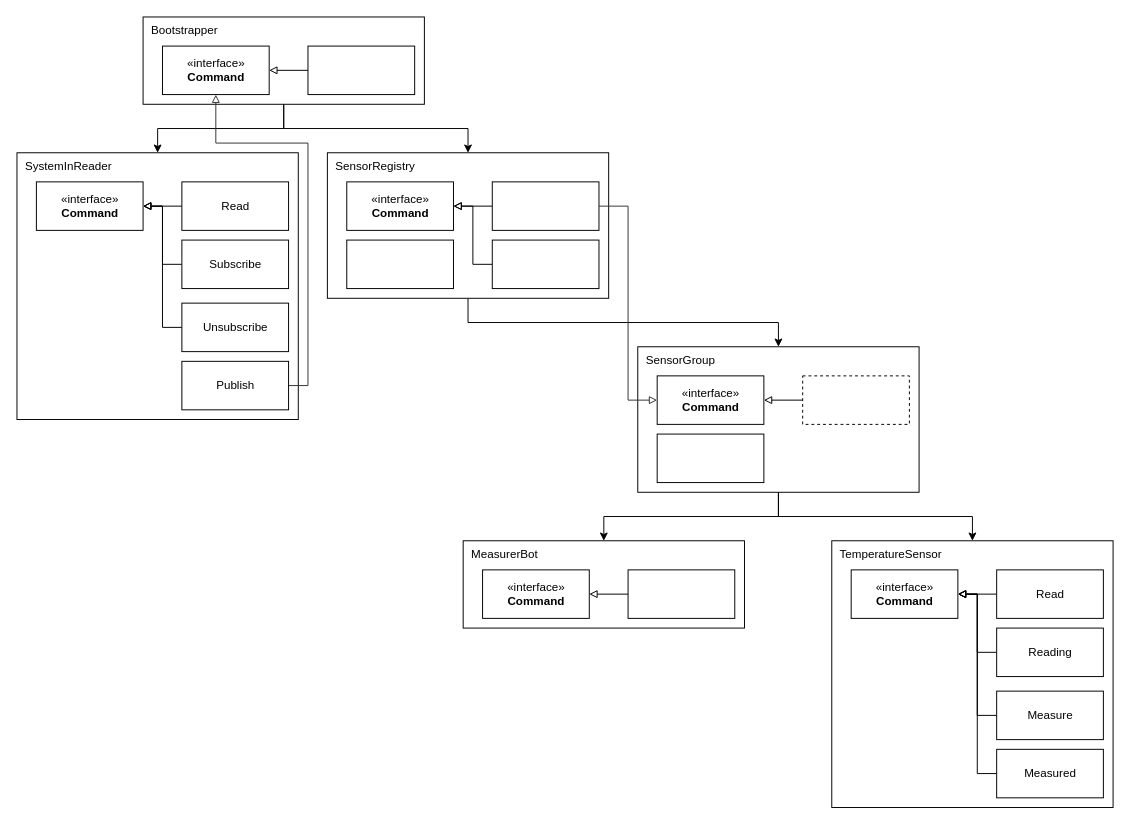
This 1130x825 diagram has some shape labels left out. Each missing label, with the centre of its shape:
"GroupsById" belongs at (399,264).
"Initialize" belongs at (361,70).
"Register" belongs at (545,205).
"Registered" belongs at (545,264).
"SensorsById" belongs at (710,458).
"SensorTerminated" belongs at (855,399).
"Start" belongs at (681,593).
